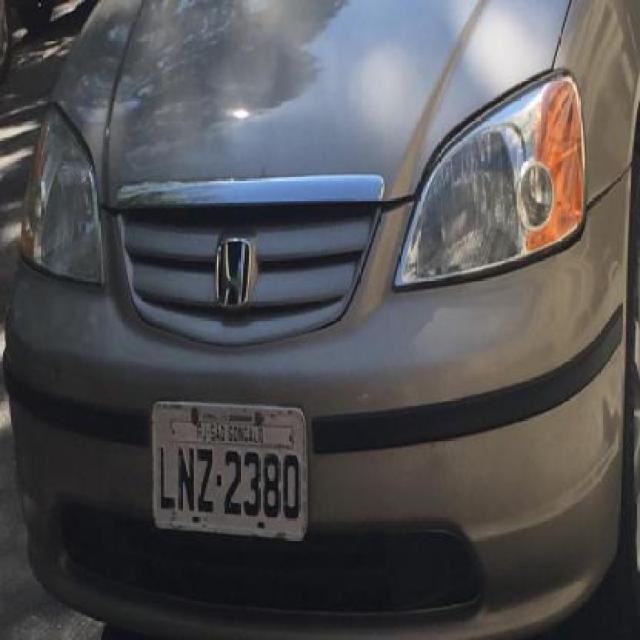old_plate: (144, 391, 316, 548)
